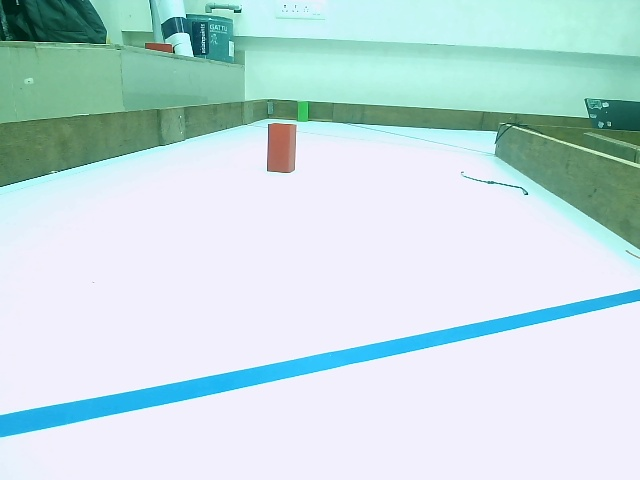red: (270, 124, 294, 174)
